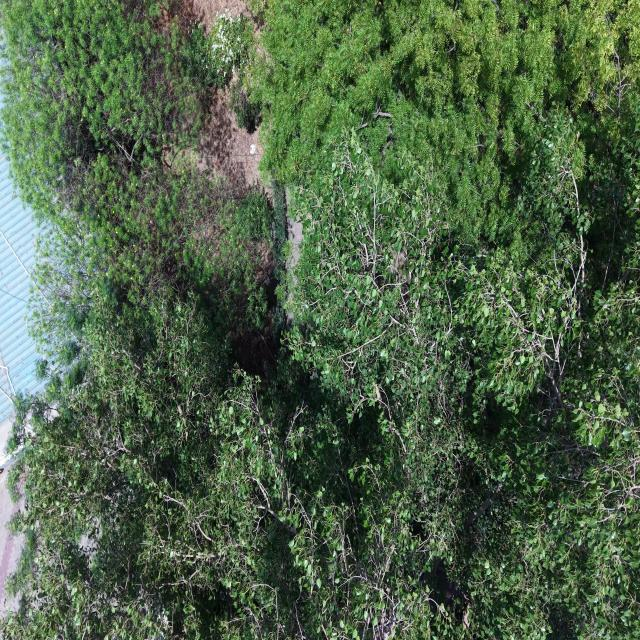DRY_AREA: (196, 89, 271, 199), (196, 88, 270, 197), (196, 90, 263, 192), (197, 90, 263, 192), (197, 90, 263, 189), (0, 470, 23, 615), (0, 473, 22, 615), (0, 479, 23, 614), (286, 189, 303, 283), (193, 0, 250, 27), (286, 190, 303, 270)
ROOFTOP_BUILDING: (0, 156, 43, 457), (0, 156, 42, 423)
VEGETATION_TREE: (0, 0, 639, 639), (289, 116, 639, 637), (256, 0, 639, 253), (190, 15, 252, 88)
